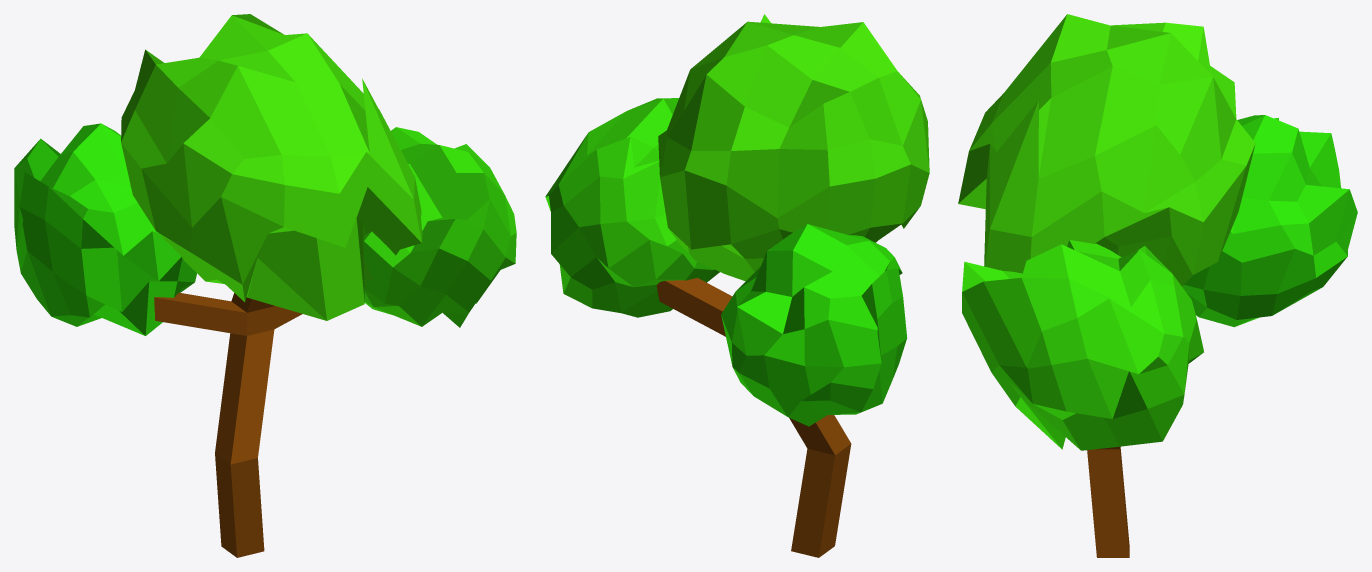
File: wood2.fbx
3 renders of one model, left to right at view 1: azimuth 30°, elevation 25°; view 2: azimuth 150°, elevation 25°; view 3: azimuth 270°, elevation 25°, orthographic. The views are drawn at different scales.
Parts seen in each view (by area): view 1: 立方体.003, 立方体.002, 立方体.001, 立方体; view 2: 立方体.003, 立方体.002, 立方体.001, 立方体; view 3: 立方体.003, 立方体.001, 立方体.002, 立方体.
Part boxes in pixels (box(x1,y1,x2,y2)): 立方体.003: box(121, 14, 422, 320); 立方体.002: box(14, 123, 196, 335); 立方体.001: box(363, 127, 516, 327); 立方体: box(154, 292, 302, 557); 立方体.003: box(658, 14, 929, 281); 立方体.002: box(721, 224, 907, 426); 立方体.001: box(545, 98, 719, 317); 立方体: box(656, 277, 851, 557); 立方体.003: box(958, 14, 1255, 285); 立方体.001: box(962, 240, 1203, 450); 立方体.002: box(1182, 115, 1357, 327); 立方体: box(1087, 446, 1129, 557).
Bounding box in the file's own units: 296 × 357 × 245.
